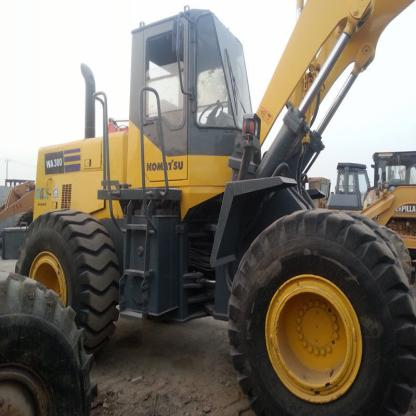bull_dozer/loader/grader: (20, 2, 414, 415)
